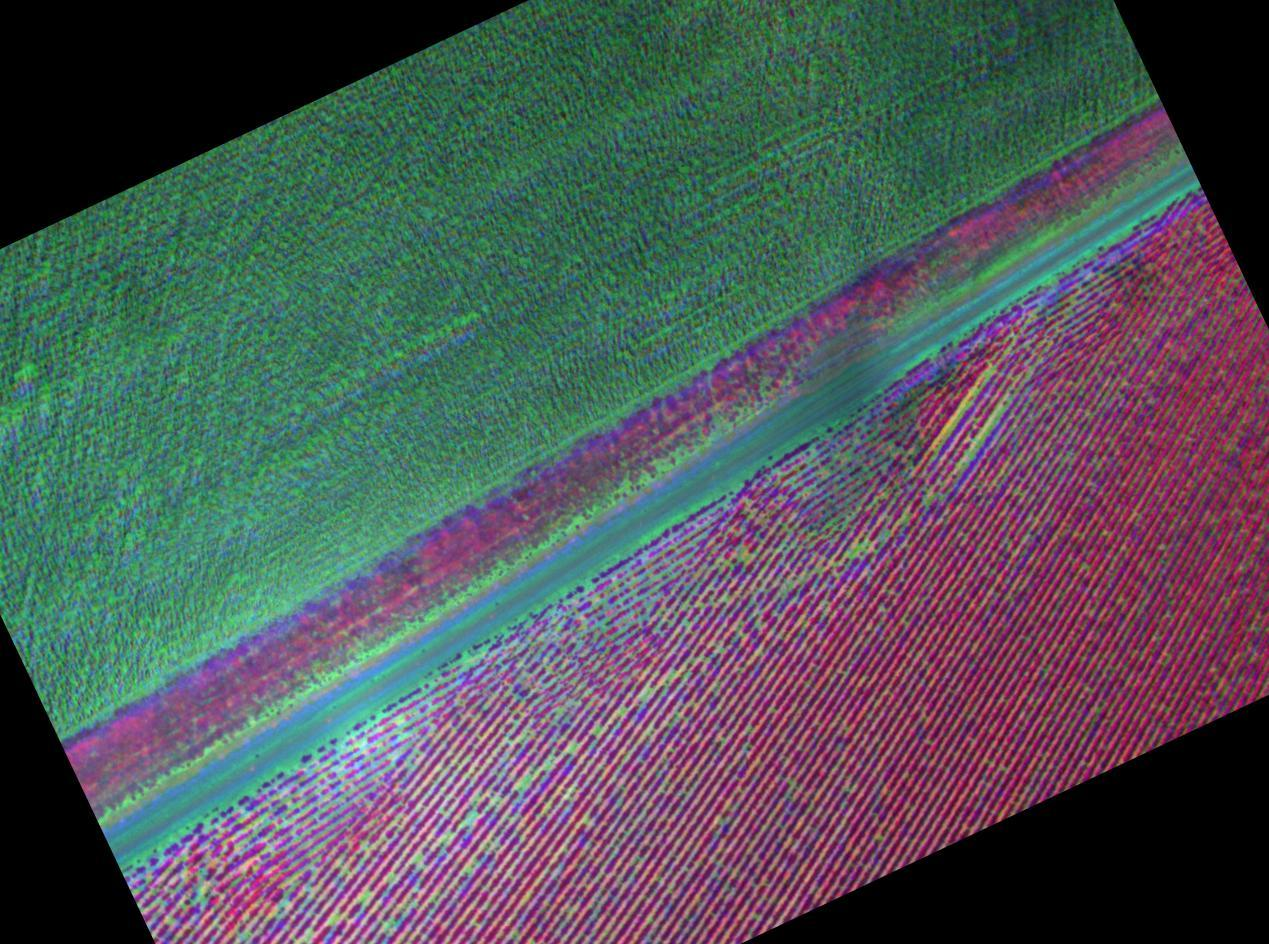dc: (569, 747, 574, 752), (522, 781, 526, 786), (384, 924, 388, 928), (858, 547, 862, 550), (851, 552, 855, 555), (1081, 565, 1085, 568), (600, 622, 603, 625), (622, 711, 625, 714), (524, 898, 527, 901)
